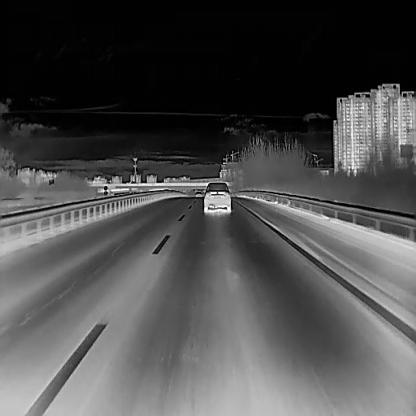car: (203, 181, 231, 212), (195, 191, 202, 196)
